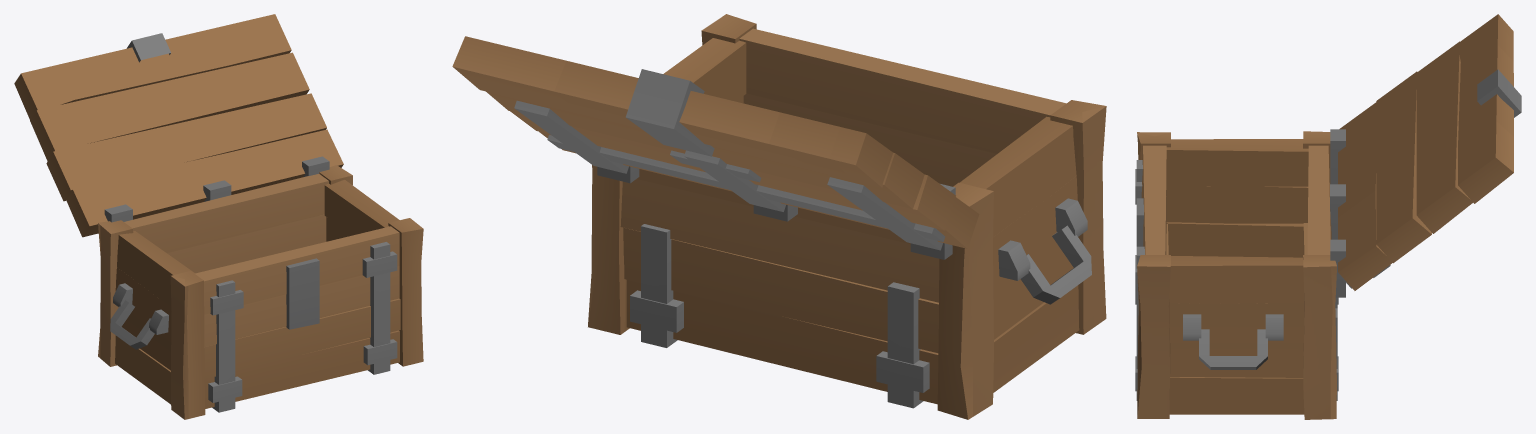
File: Box_Wood_Open_A.fbx
The picture shows the model from 3 angles, left to right: view 1: azimuth 30°, elevation 25°; view 2: azimuth 150°, elevation 25°; view 3: azimuth 270°, elevation 25°; orthographic projection. The views are drawn at different scales.
Visible parts, largest first — view 1: Box_Wood_Open_A; view 2: Box_Wood_Open_A; view 3: Box_Wood_Open_A.
Boxes of the visible parts, x1,y1,x2,y2 form: Box_Wood_Open_A: (14,14,423,419); Box_Wood_Open_A: (452,14,1106,419); Box_Wood_Open_A: (1135,14,1521,419).
Size of the model in its own units: 98.15 by 79.04 by 100.
